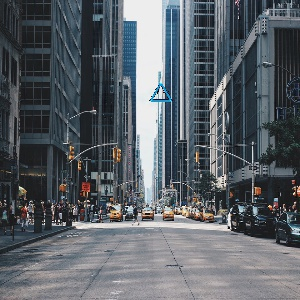triangle: (148, 80, 175, 105)
